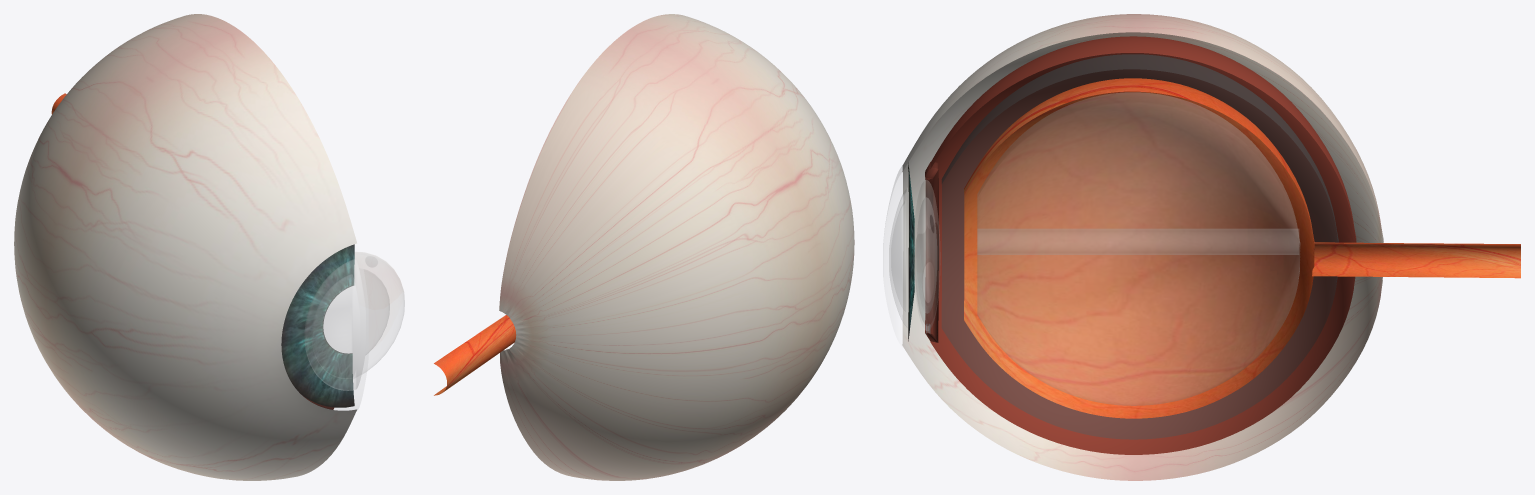
The model's file is ojo_interno.glb.
The picture shows the model from 3 angles, left to right: view 1: azimuth 30°, elevation 25°; view 2: azimuth 150°, elevation 25°; view 3: azimuth 270°, elevation 25°; orthographic projection. The views are drawn at different scales.
Parts seen in each view (by area): view 1: esclera, cornea, iris, humorAcuoso, cristalino; view 2: esclera, nervioOptico; view 3: retina, humorVitreo, coroides, esclera, epitelioPigmentario, nervioOptico, cristalino, cuerpoCiliar, fovea, humorAcuoso, cornea, iris.
Part boxes in pixels (x1,y1,x2,y2): esclera: (14,14,356,480); cornea: (281,244,367,411); iris: (281,244,354,407); humorAcuoso: (305,259,365,390); cristalino: (355,252,404,373); esclera: (499,14,854,480); nervioOptico: (434,315,516,395); retina: (964,78,1314,418); humorVitreo: (977,92,1300,405); coroides: (930,36,1356,454); esclera: (902,14,1383,480); epitelioPigmentario: (941,54,1338,439); nervioOptico: (1312,242,1520,278); cristalino: (913,180,940,330); cuerpoCiliar: (925,162,938,342); fovea: (1247,206,1289,275); humorAcuoso: (889,188,907,327); cornea: (883,166,902,345); iris: (908,162,914,341).
Size of the model in its own units: 2.58 by 4.08 by 5.26.
Materials: 10 (5 with a texture image).
